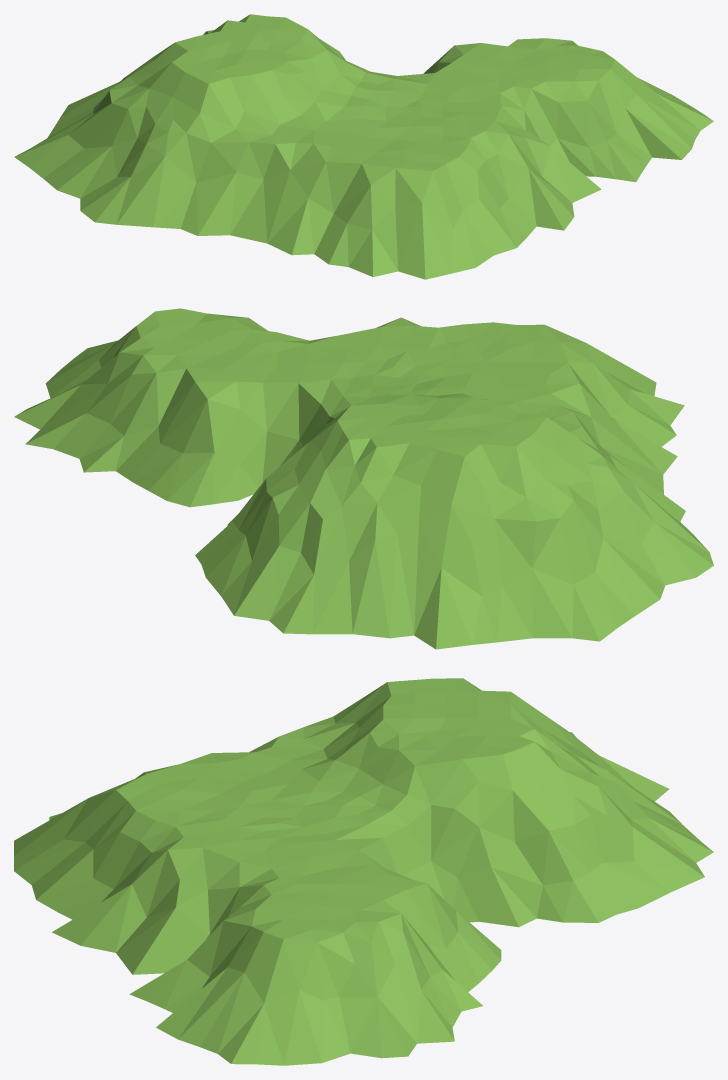
The model's file is MT_Island_L_b_07.fbx.
3 renders of one model, top to bottom at view 1: azimuth 30°, elevation 25°; view 2: azimuth 150°, elevation 25°; view 3: azimuth 270°, elevation 25°, orthographic. The views are drawn at different scales.
Parts seen in each view (by area): view 1: MT_Island_L_b_07; view 2: MT_Island_L_b_07; view 3: MT_Island_L_b_07.
Part boxes in pixels (x1,y1,x2,y2): MT_Island_L_b_07: (14, 14, 713, 279); MT_Island_L_b_07: (14, 308, 713, 649); MT_Island_L_b_07: (14, 678, 713, 1065).
Bounding box in the file's own units: 7810 × 1333 × 6856.
